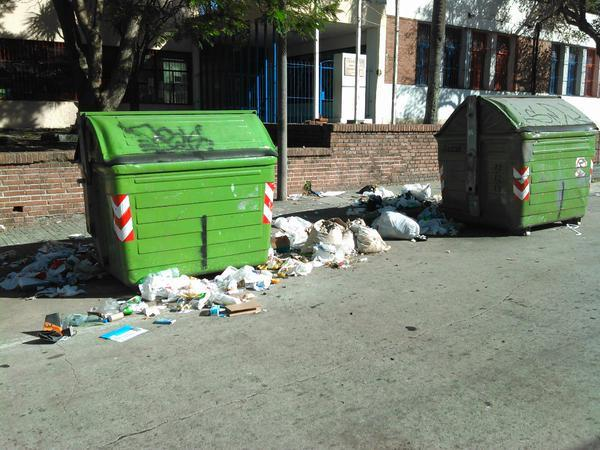Dechets: (105, 277, 294, 326), (272, 211, 445, 264), (3, 232, 91, 308), (291, 181, 438, 220), (371, 211, 423, 238), (31, 314, 74, 346), (231, 264, 273, 291), (100, 321, 146, 343), (276, 257, 318, 280), (229, 298, 266, 323), (316, 187, 347, 202)
Trash: (77, 112, 279, 290), (436, 91, 599, 234)
